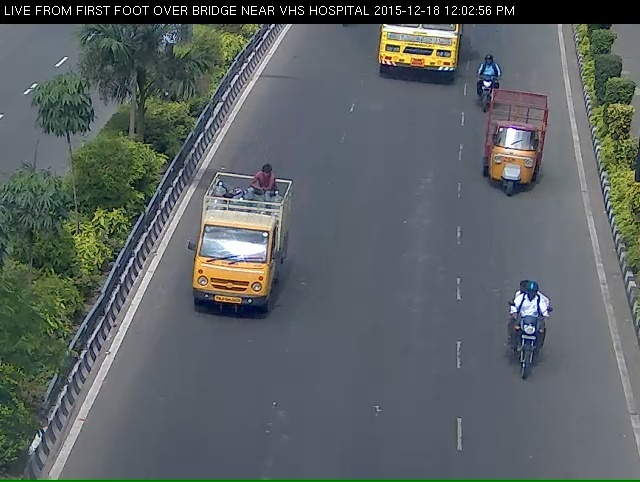Auto: (188, 184, 282, 326), (485, 94, 541, 212)
Bus: (371, 23, 462, 89)
Person: (508, 310, 552, 401), (469, 64, 492, 112)
